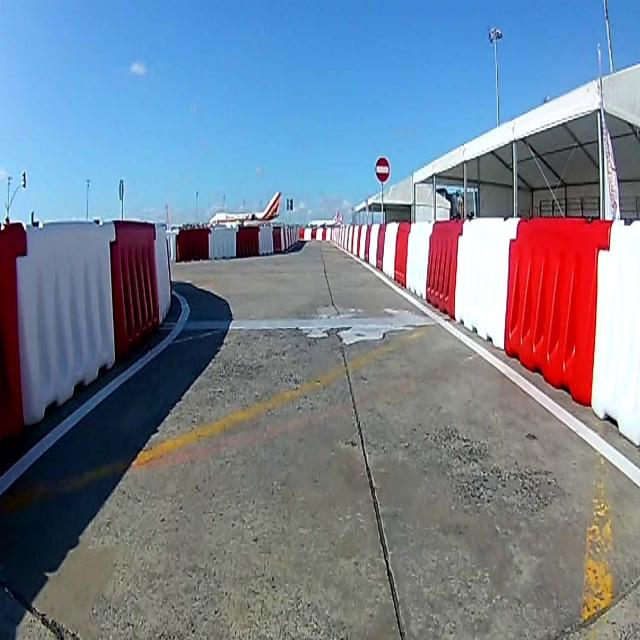girisyok: (376, 158, 390, 182)
